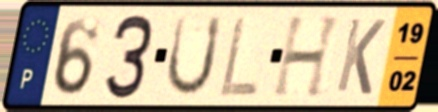3: (100, 9, 156, 102)
6: (51, 14, 102, 98)
H: (269, 13, 346, 101)
K: (333, 15, 388, 98)
L: (216, 13, 262, 100)
U: (163, 13, 226, 100)
